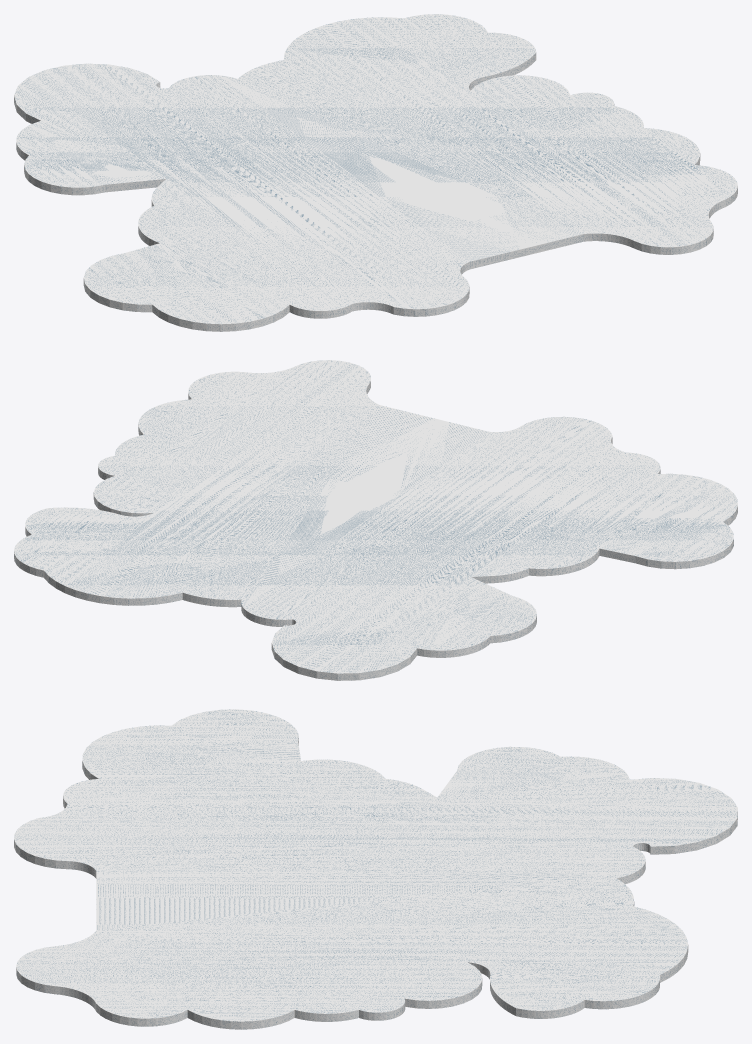
The model's file is splatter.fbx.
The picture shows the model from 3 angles, top to bottom: view 1: azimuth 30°, elevation 25°; view 2: azimuth 150°, elevation 25°; view 3: azimuth 270°, elevation 25°; orthographic projection. The views are drawn at different scales.
Visible parts, largest first — view 1: skp792C[Front Side], skp792C[Back Side]; view 2: skp792C[Front Side], skp792C[Back Side]; view 3: skp792C[Front Side], skp792C[Back Side].
Part boxes in pixels (x1=…): skp792C[Front Side]: x1=14, y1=14, x2=737, y2=331; skp792C[Back Side]: x1=14, y1=14, x2=737, y2=331; skp792C[Front Side]: x1=14, y1=360, x2=737, y2=680; skp792C[Back Side]: x1=14, y1=360, x2=737, y2=680; skp792C[Front Side]: x1=14, y1=709, x2=737, y2=1029; skp792C[Back Side]: x1=14, y1=709, x2=737, y2=1029.
Bounding box in the file's own units: 210 × 2.54 × 206.
